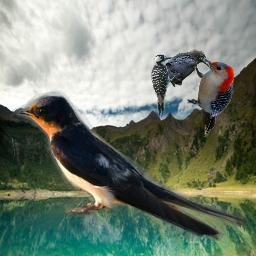Crow: (153, 49, 210, 88)
Swallow: (12, 88, 251, 241)
Woodpecker: (187, 56, 234, 137), (150, 54, 181, 117)
